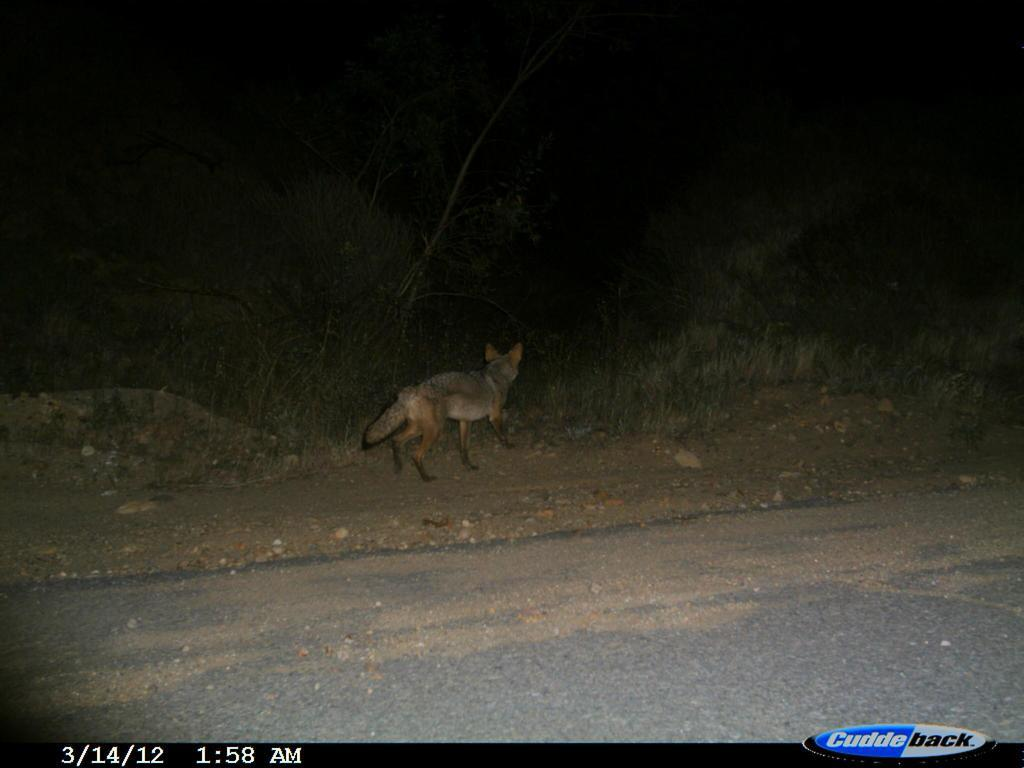coyote: (355, 334, 536, 491)
